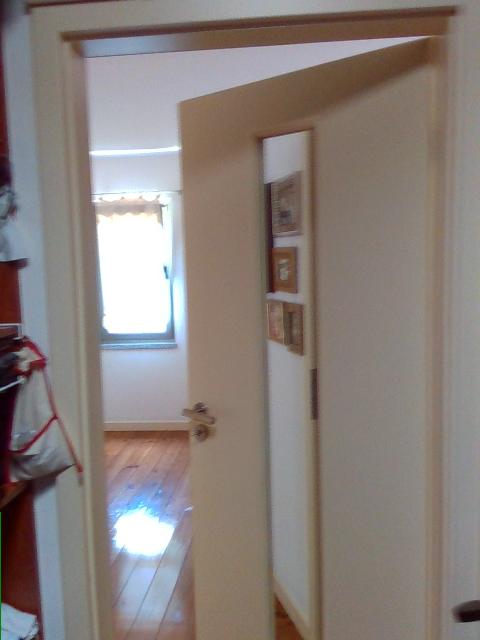semi: (24, 2, 479, 635)
